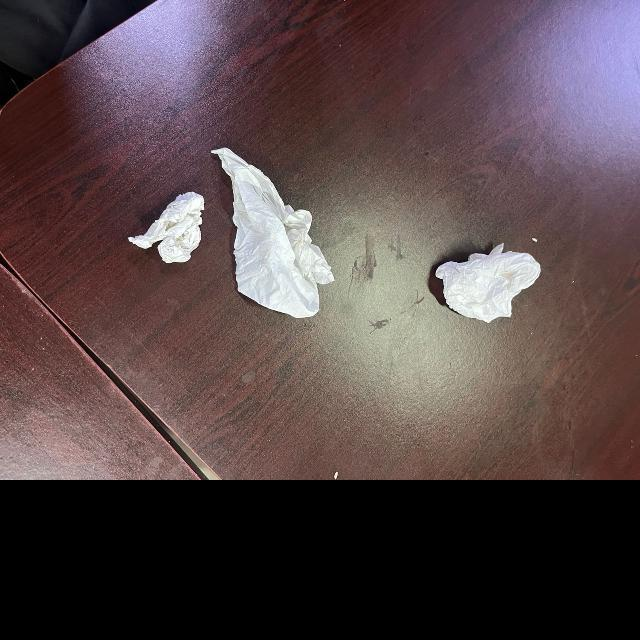kitchen paper: (208, 142, 338, 324), (431, 239, 545, 325), (129, 186, 206, 269)
